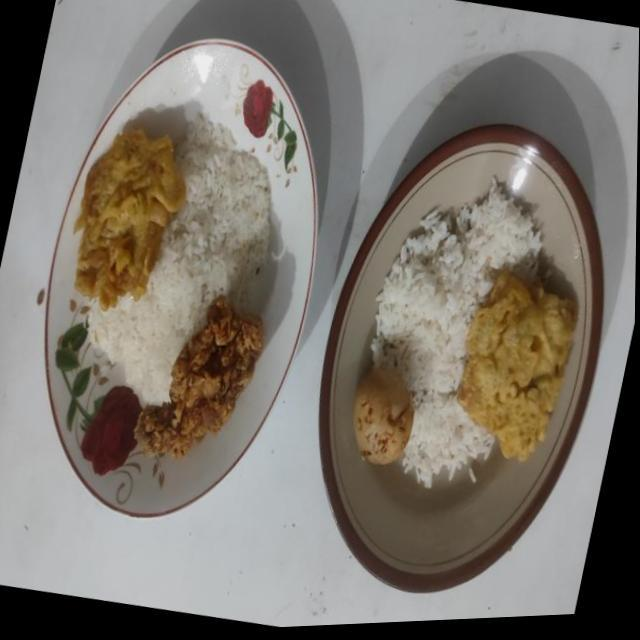nasi_putih: (89, 116, 271, 407), (371, 188, 541, 487)
